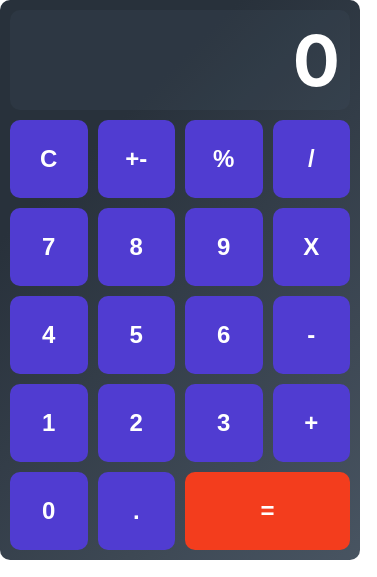
Test: CalculatorV2 › percent converts number to percentage
Click the button "5" at (136, 335), box left=98, top=296, right=175, bottom=374
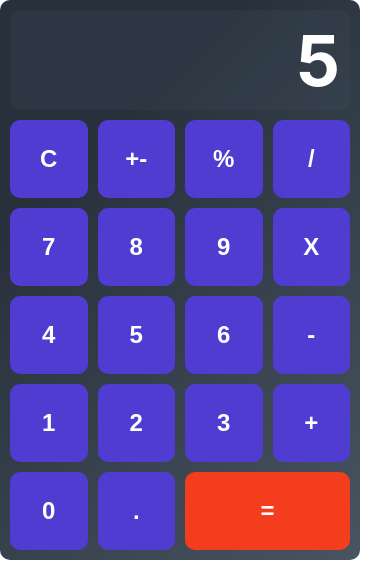
Click the button "0" at (49, 511), box left=10, top=472, right=88, bottom=550
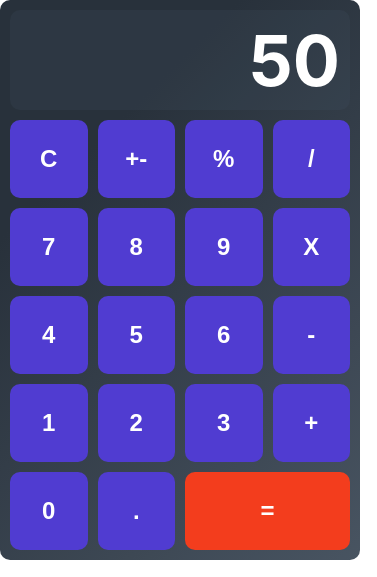
Click the button "%" at (224, 159), box left=185, top=120, right=262, bottom=198
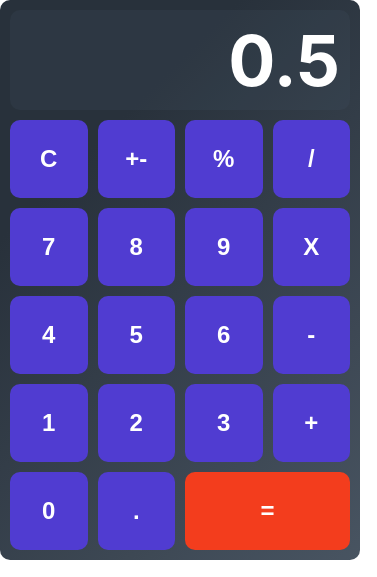
Expected: the text with class "responsive-text" reads "0.5", left=228, top=18, right=340, bottom=102
